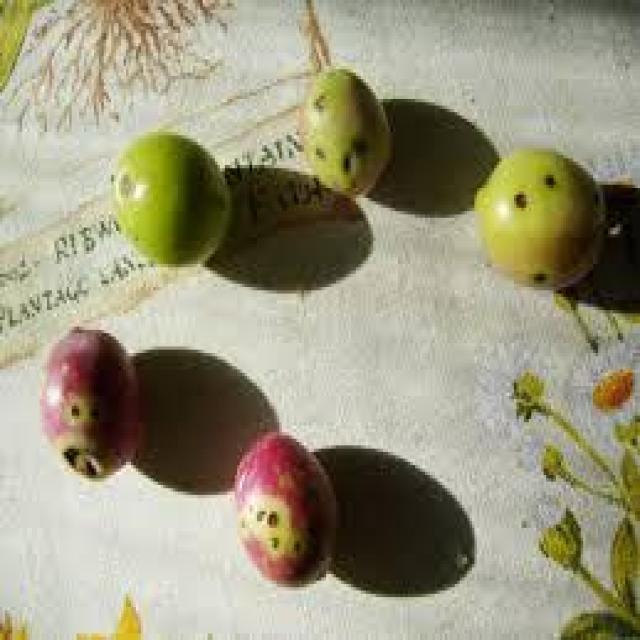Olive Fruit Fly: (477, 148, 600, 290), (237, 432, 336, 584), (42, 327, 136, 478), (300, 66, 390, 195)
